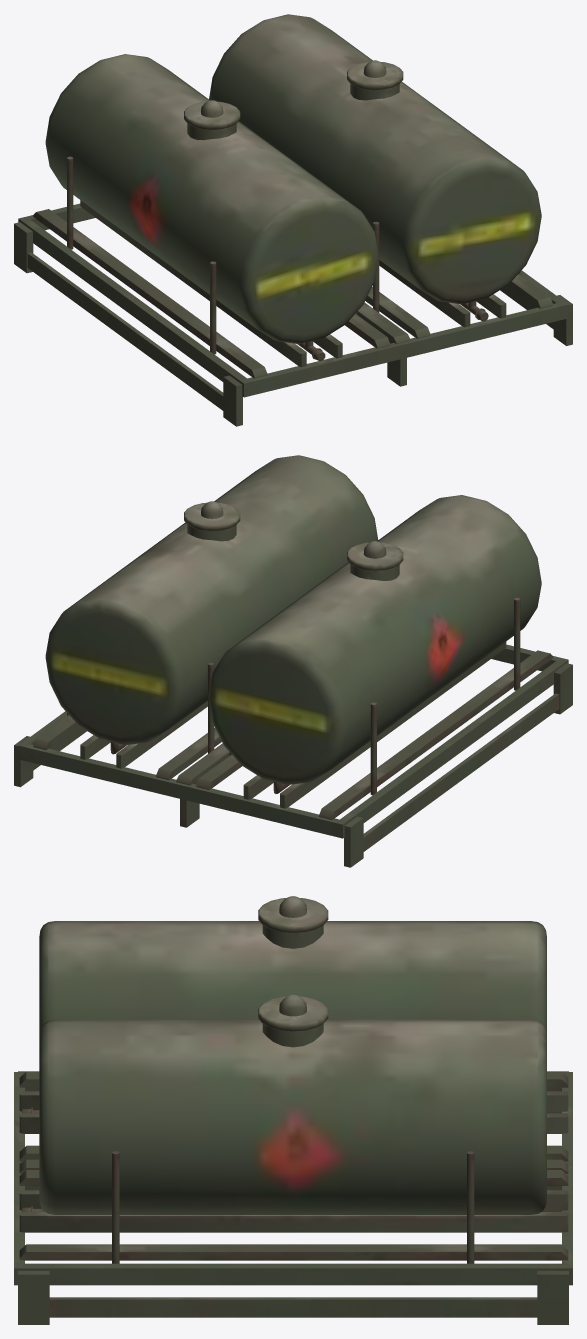
Rendered from sp-tank.glb.
The picture shows the model from 3 angles, top to bottom: view 1: azimuth 30°, elevation 25°; view 2: azimuth 150°, elevation 25°; view 3: azimuth 270°, elevation 25°; orthographic projection. The views are drawn at different scales.
Parts seen in each view (by area): view 1: sp-tank; view 2: sp-tank; view 3: sp-tank.
Part boxes in pixels (box(x1,y1,x2,y2)): sp-tank: box(14, 14, 572, 426); sp-tank: box(14, 455, 572, 867); sp-tank: box(14, 896, 572, 1324).
Bounding box in the file's own units: 18.98 × 12 × 22.03.
1 material, 1 textured.
